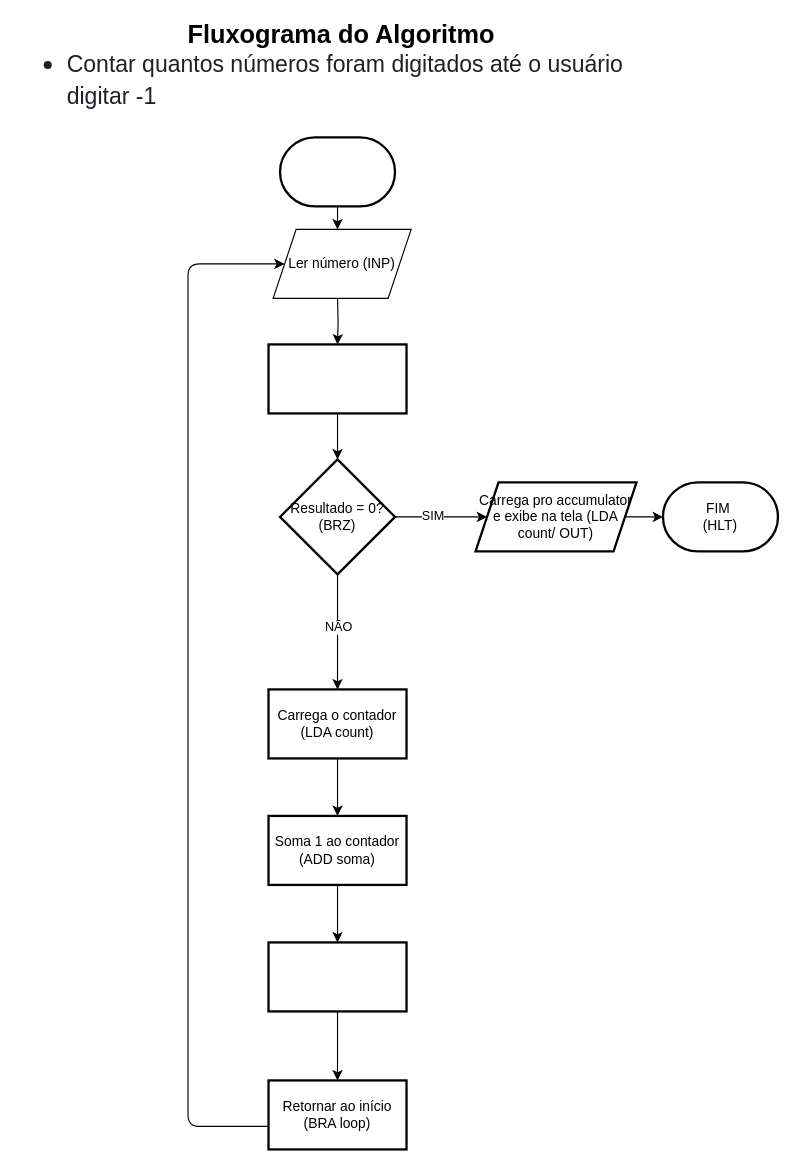
This 798x1171 diagram has some shape labels left out. The shapes that lost their labels are listed below. From the top down, each one's box as (x1, y1, x2, y2) in pixels, then its label:
(278, 136, 396, 207): Início
(267, 343, 407, 414): Somar 1 para testar (ADD soma)
(267, 941, 407, 1012): Salva o contador atualizado (STA count)
